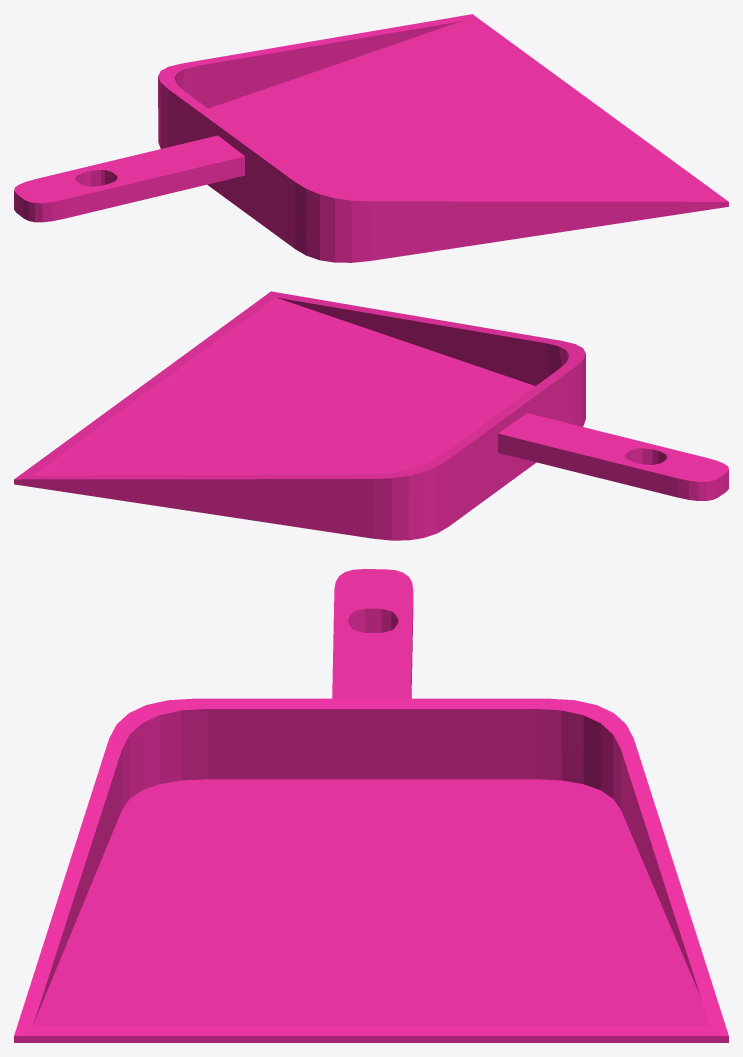
Rendered from dustpan_2.glb.
The picture shows the model from 3 angles, top to bottom: view 1: azimuth 30°, elevation 25°; view 2: azimuth 150°, elevation 25°; view 3: azimuth 270°, elevation 25°; orthographic projection. The views are drawn at different scales.
Visible parts, largest first — view 1: f84c35be43aa423585da752baae0d6ec; view 2: f84c35be43aa423585da752baae0d6ec; view 3: f84c35be43aa423585da752baae0d6ec.
Boxes of the visible parts, x1,y1,x2,y2 form: f84c35be43aa423585da752baae0d6ec: (14,14,728,262); f84c35be43aa423585da752baae0d6ec: (14,291,728,540); f84c35be43aa423585da752baae0d6ec: (14,569,728,1042).
Size of the model in its own units: 1 by 0.1106 by 0.7663.
